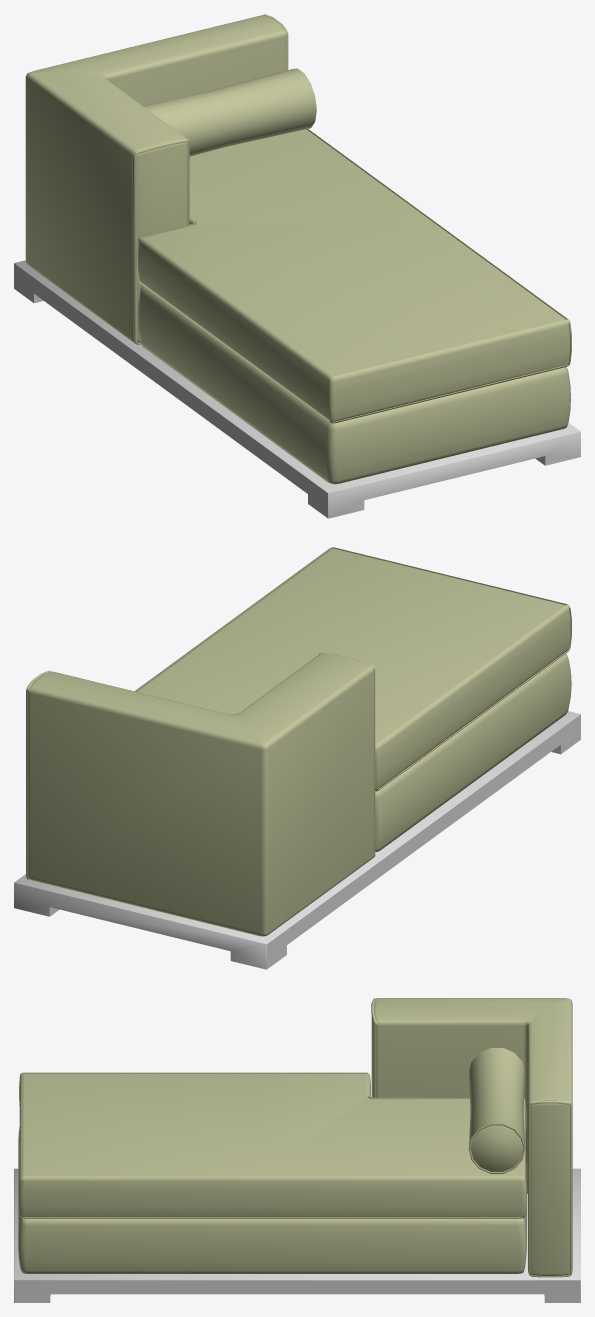
Rendered from MZBCL02L.FBX.
The picture shows the model from 3 angles, top to bottom: view 1: azimuth 30°, elevation 25°; view 2: azimuth 150°, elevation 25°; view 3: azimuth 270°, elevation 25°; orthographic projection. The views are drawn at different scales.
Parts seen in each view (by area): view 1: MZBCL02L; view 2: MZBCL02L; view 3: MZBCL02L.
Boxes of the visible parts, x1,y1,x2,y2 form: MZBCL02L: (14,14,580,518); MZBCL02L: (14,547,580,969); MZBCL02L: (14,998,580,1302).
Bounding box in the file's own units: 78 × 168 × 65.1.
